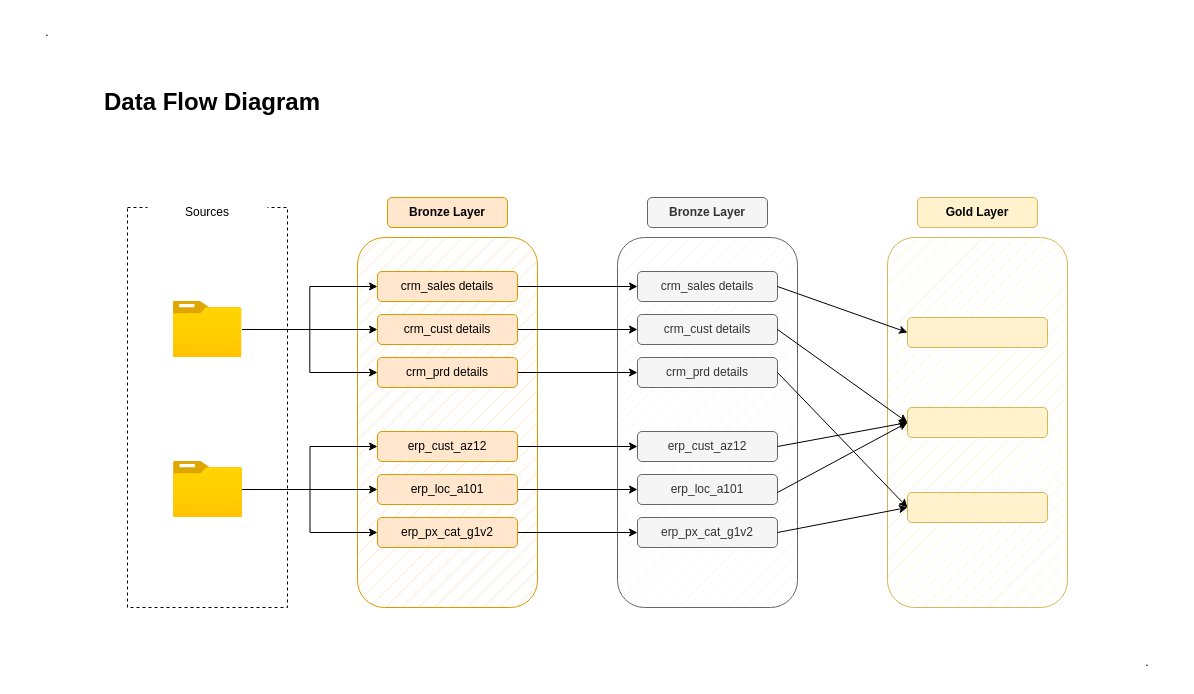
This 1194x694 diagram has some shape labels left out. The shapes that lost their labels are listed below. From the top down, each one's centre as x and y in pixels, then its label:
At point 207,329: "CRM".
At point 977,332: "fact_sales".
At point 977,422: "dim_customers".
At point 207,489: "ERP".
At point 977,507: "dim_products".
